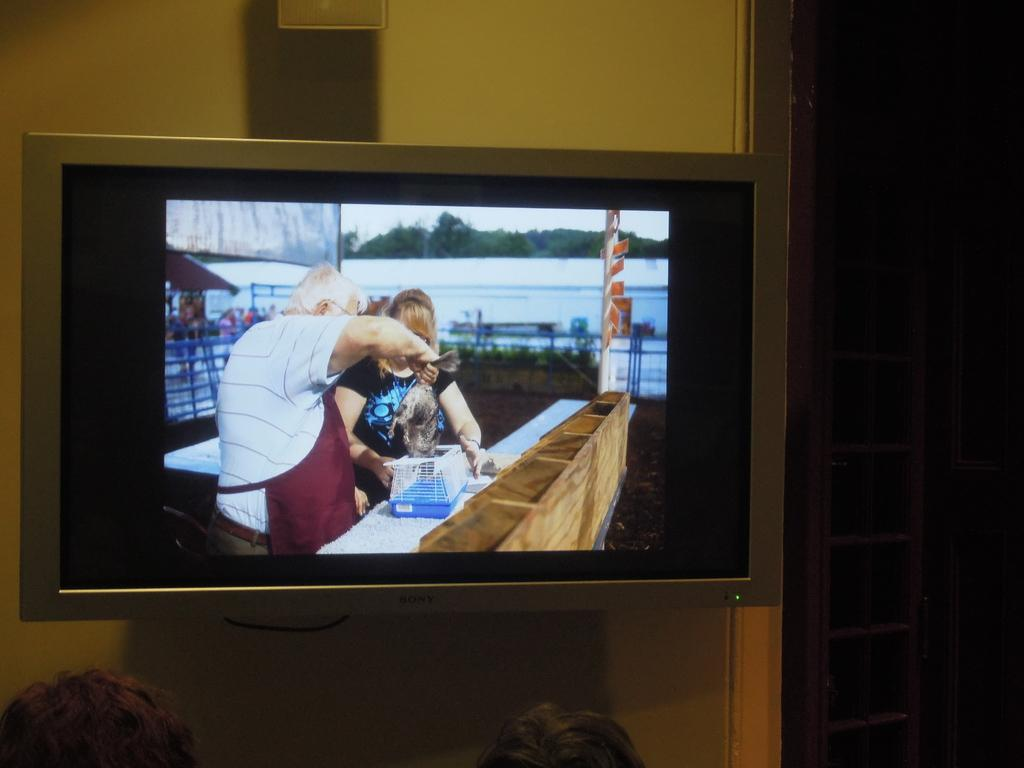Computer-monitor: (20, 127, 787, 609)
